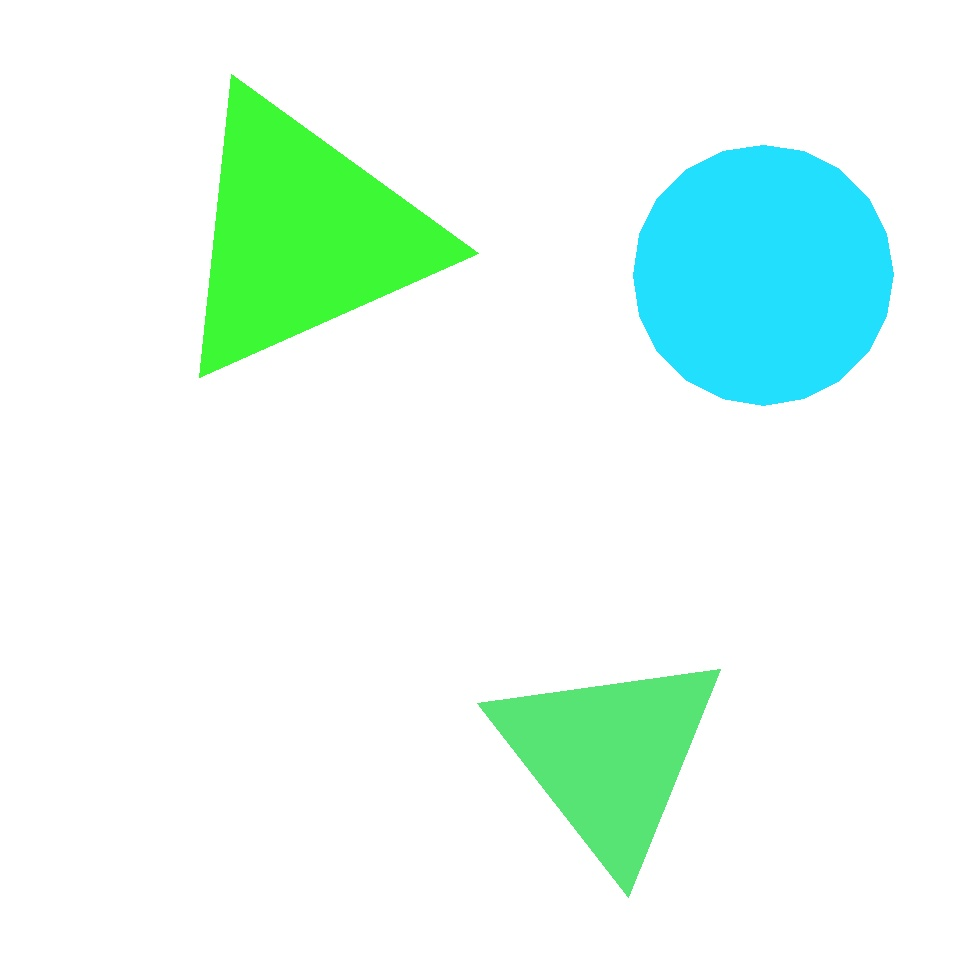circle: (506, 140, 814, 467), (42, 283, 362, 585), (163, 84, 442, 386), (632, 540, 908, 800), (488, 643, 730, 871)
triangle: (11, 460, 366, 815), (633, 145, 893, 405)
